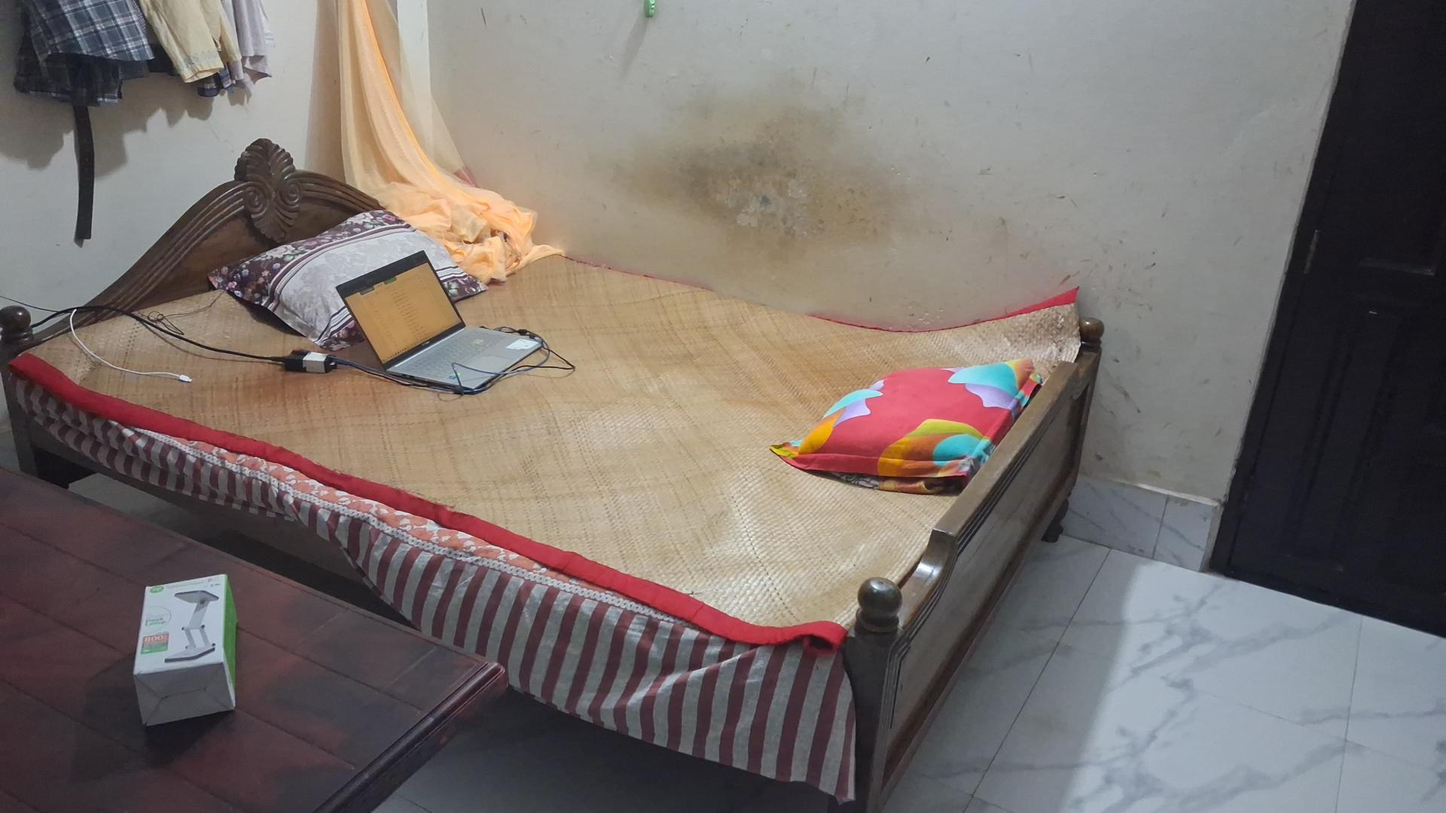Box: (112, 569, 254, 733)
Laptop: (334, 250, 546, 393)
Pillow: (785, 341, 1036, 485), (220, 216, 505, 334)
